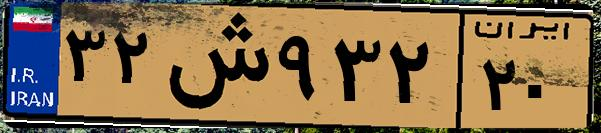0: (525, 38, 570, 115)
2: (385, 28, 445, 110), (475, 38, 525, 113), (110, 28, 158, 98)
3: (330, 28, 385, 110), (57, 26, 110, 100)
9: (270, 28, 330, 110)
ش: (158, 12, 270, 120)
